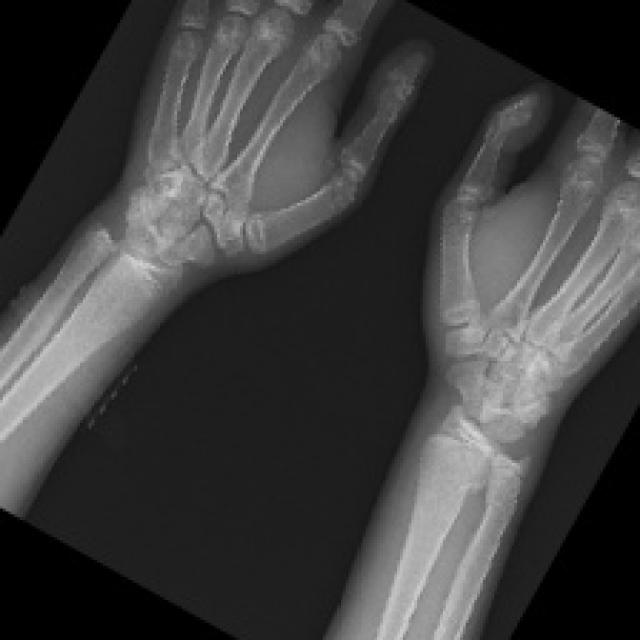fracture: (443, 369, 611, 512)
